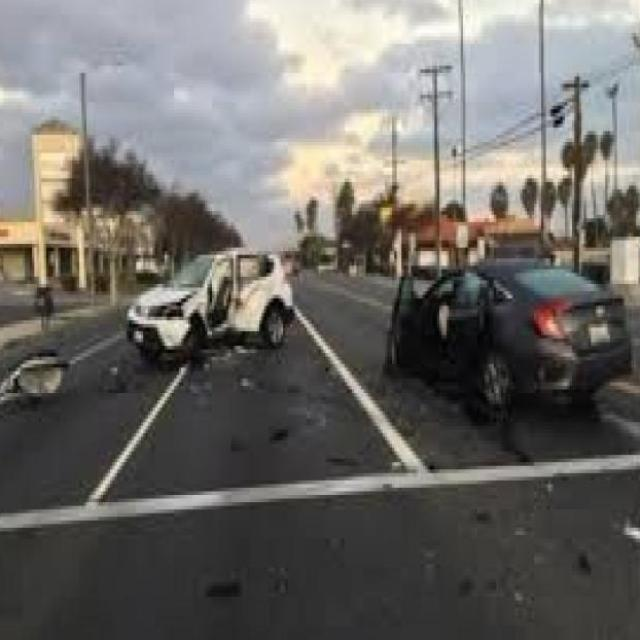accident: (372, 224, 624, 429), (120, 225, 312, 371)
